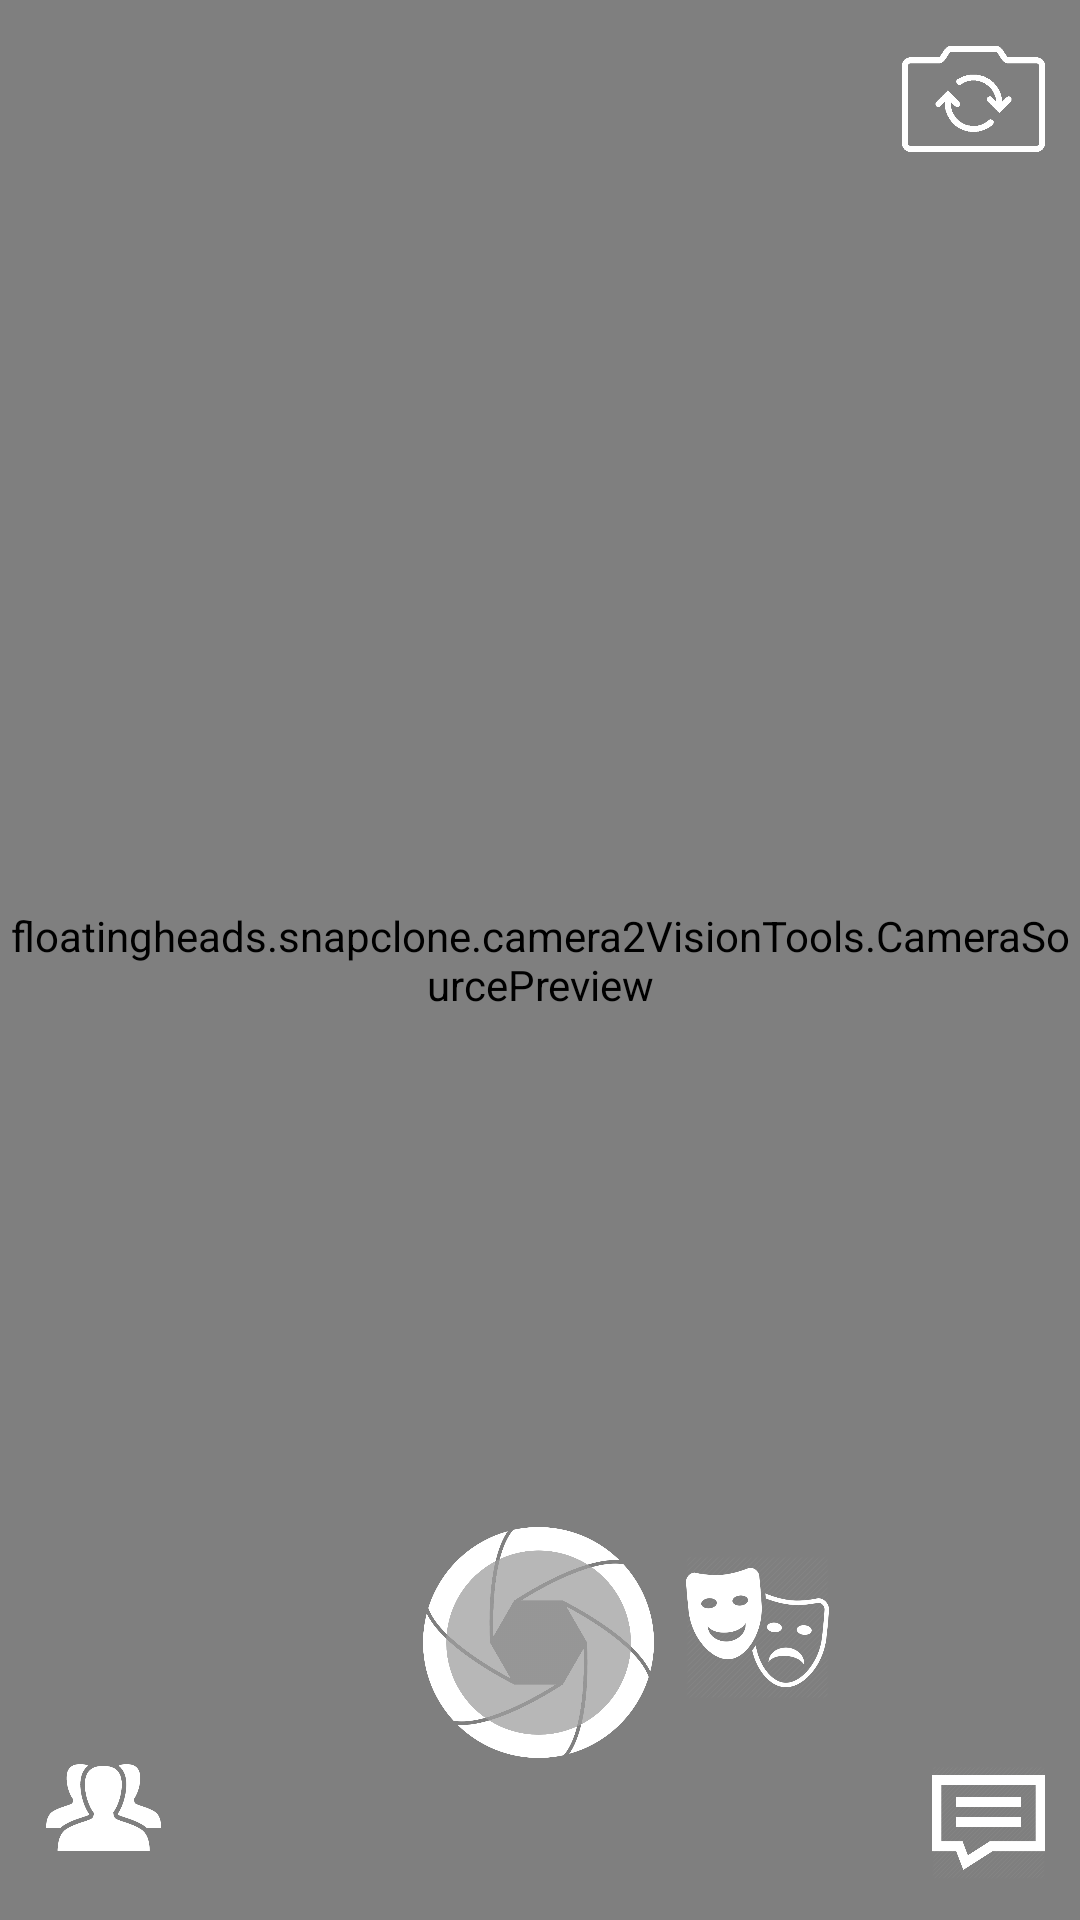

Locate icon controls on the screen. Image size 1080px x 1920px, boxes as (x1, y1, x2, y2).
friends: (46, 1764, 161, 1851)
othercam: (902, 46, 1045, 152)
